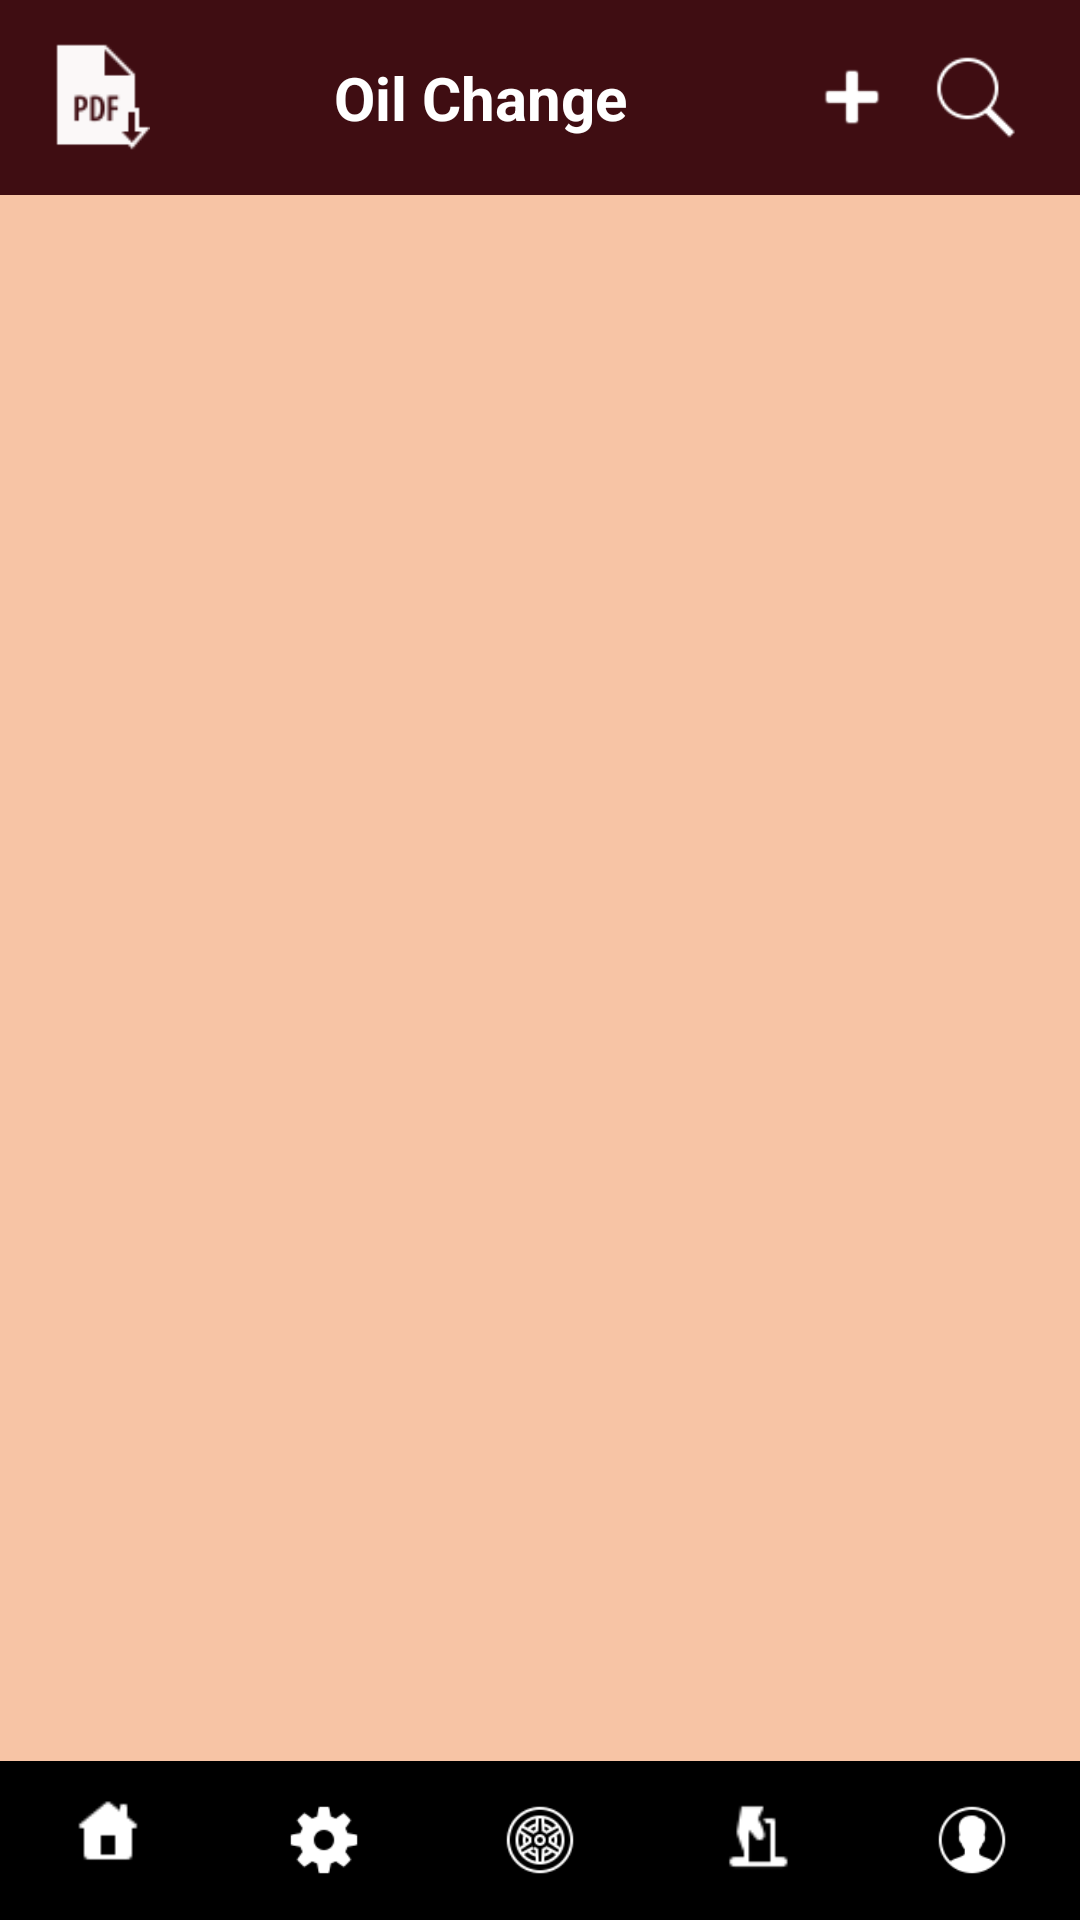

Icons on this 1080w x 1920h Android screen, each with its box as (x1, y1, x2, y2):
Export pdf: (56, 44, 150, 150)
Search: (936, 57, 1015, 138)
